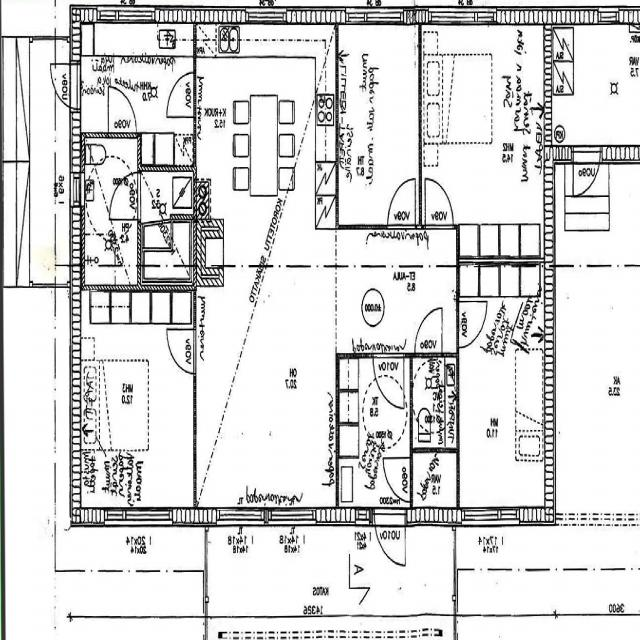door: (375, 507, 406, 576), (374, 352, 404, 408), (573, 145, 600, 207), (45, 65, 82, 108), (109, 86, 137, 138), (388, 178, 416, 229), (110, 174, 142, 218), (426, 179, 452, 229), (457, 302, 486, 346), (383, 458, 412, 502), (168, 330, 197, 373), (168, 73, 197, 116), (417, 310, 442, 358)
